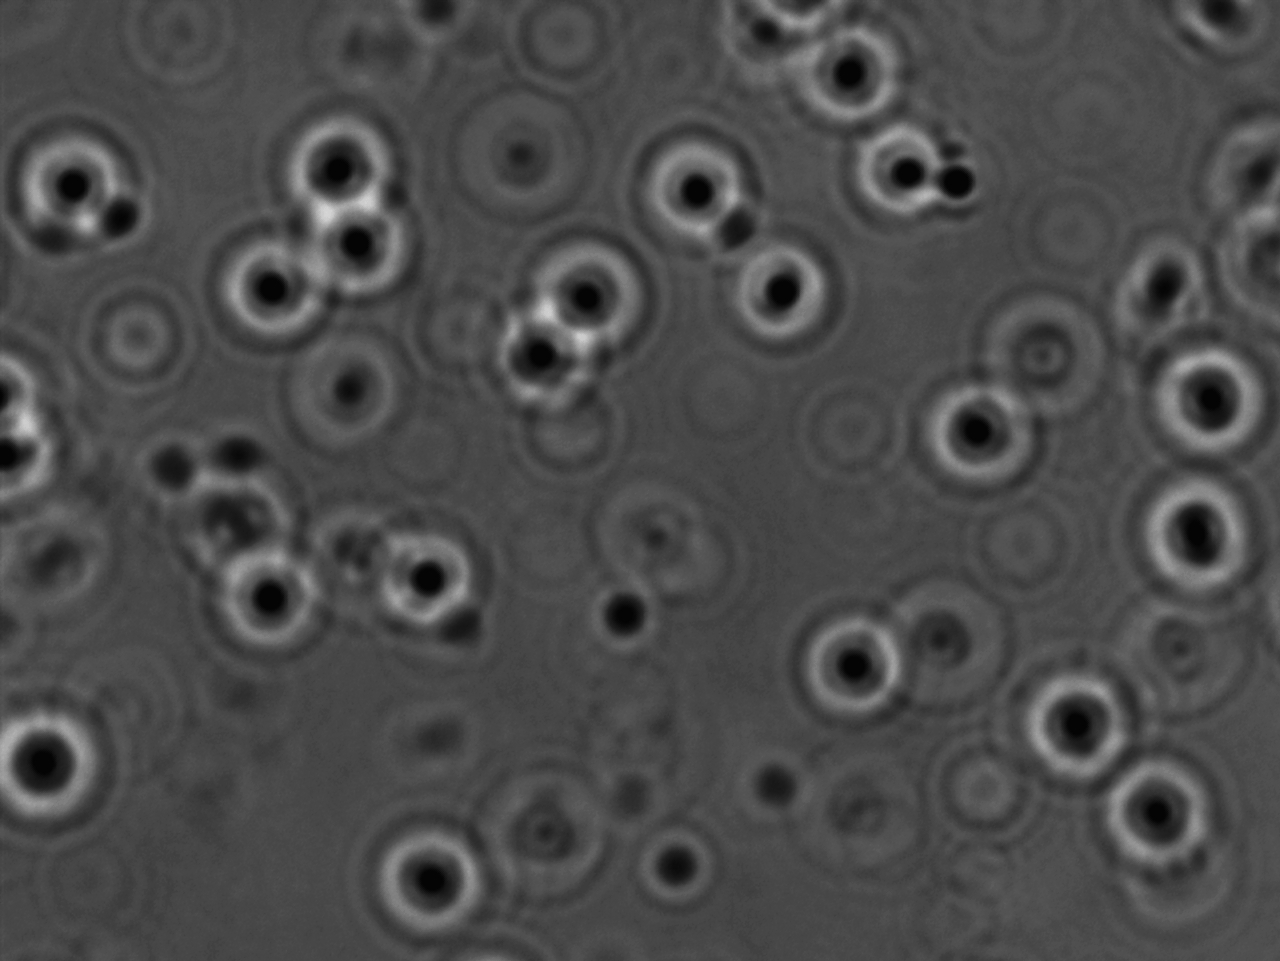depth:-24: (198, 542, 359, 685), (783, 589, 926, 741), (200, 215, 336, 366), (512, 223, 660, 359), (720, 218, 858, 363), (359, 511, 513, 640), (13, 120, 151, 262), (352, 815, 497, 950), (1121, 475, 1270, 605), (903, 362, 1042, 499), (1131, 337, 1270, 471), (623, 120, 759, 255), (1089, 747, 1229, 879), (832, 113, 972, 241), (785, 9, 913, 145), (1014, 665, 1147, 793), (271, 111, 402, 232), (301, 190, 430, 299)
